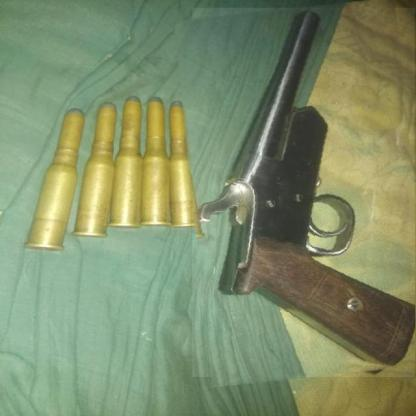handgun: (183, 2, 416, 382)
